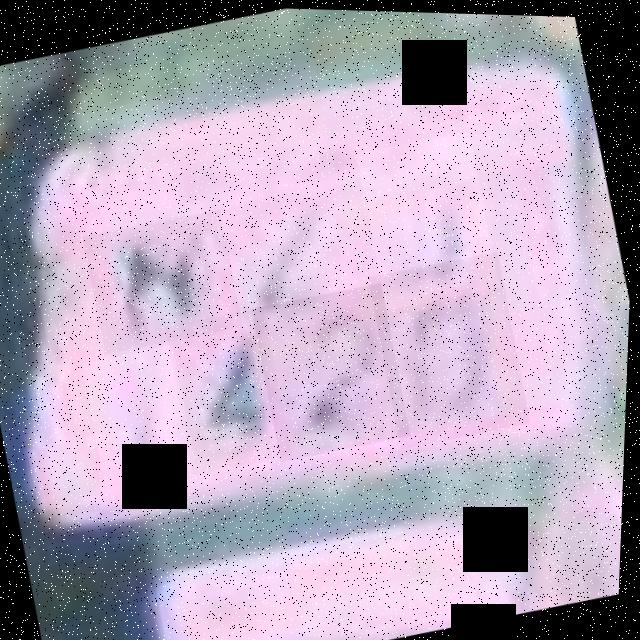0: (365, 245, 539, 449)
1: (81, 341, 203, 486)
2: (249, 277, 418, 462)
4: (162, 302, 299, 476)
D: (352, 124, 506, 310)
N: (81, 204, 248, 356)
